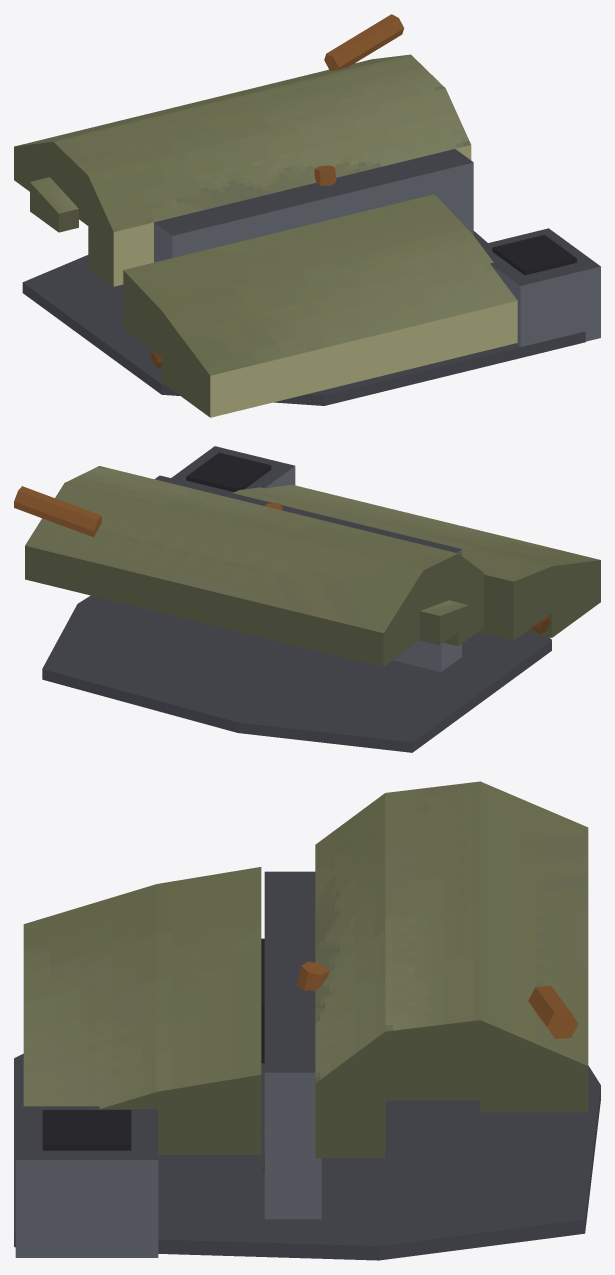
Rendered from Building_ShipChunk__B.glb.
The picture shows the model from 3 angles, top to bottom: view 1: azimuth 30°, elevation 25°; view 2: azimuth 150°, elevation 25°; view 3: azimuth 270°, elevation 25°; orthographic projection. The views are drawn at different scales.
Visible parts, largest first — view 1: ShipChunk__B; view 2: ShipChunk__B; view 3: ShipChunk__B.
Boxes of the visible parts, <box> form: ShipChunk__B: <box>14,14,600,417</box>; ShipChunk__B: <box>14,446,600,752</box>; ShipChunk__B: <box>14,781,600,1260</box>.
Bounding box in the file's own units: 2 × 0.8423 × 1.85.
Materials: 1 (1 with a texture image).
